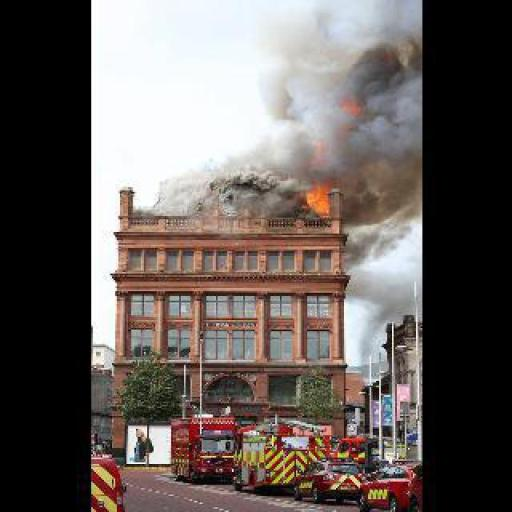smoke: (255, 0, 422, 183), (336, 178, 419, 350), (133, 133, 291, 221), (296, 178, 336, 219)
